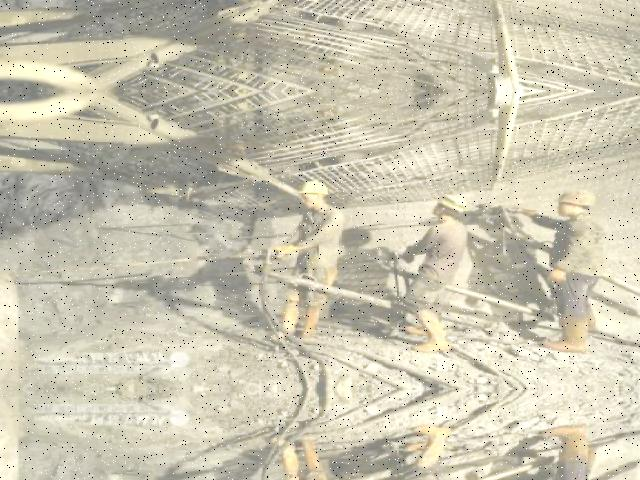Helmet: (556, 184, 603, 215), (296, 175, 338, 205), (432, 192, 476, 220)
